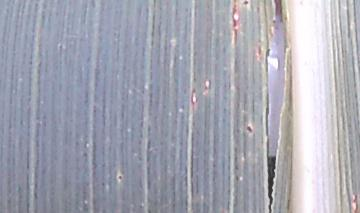tarspot: (244, 123, 254, 135), (116, 172, 124, 180)
